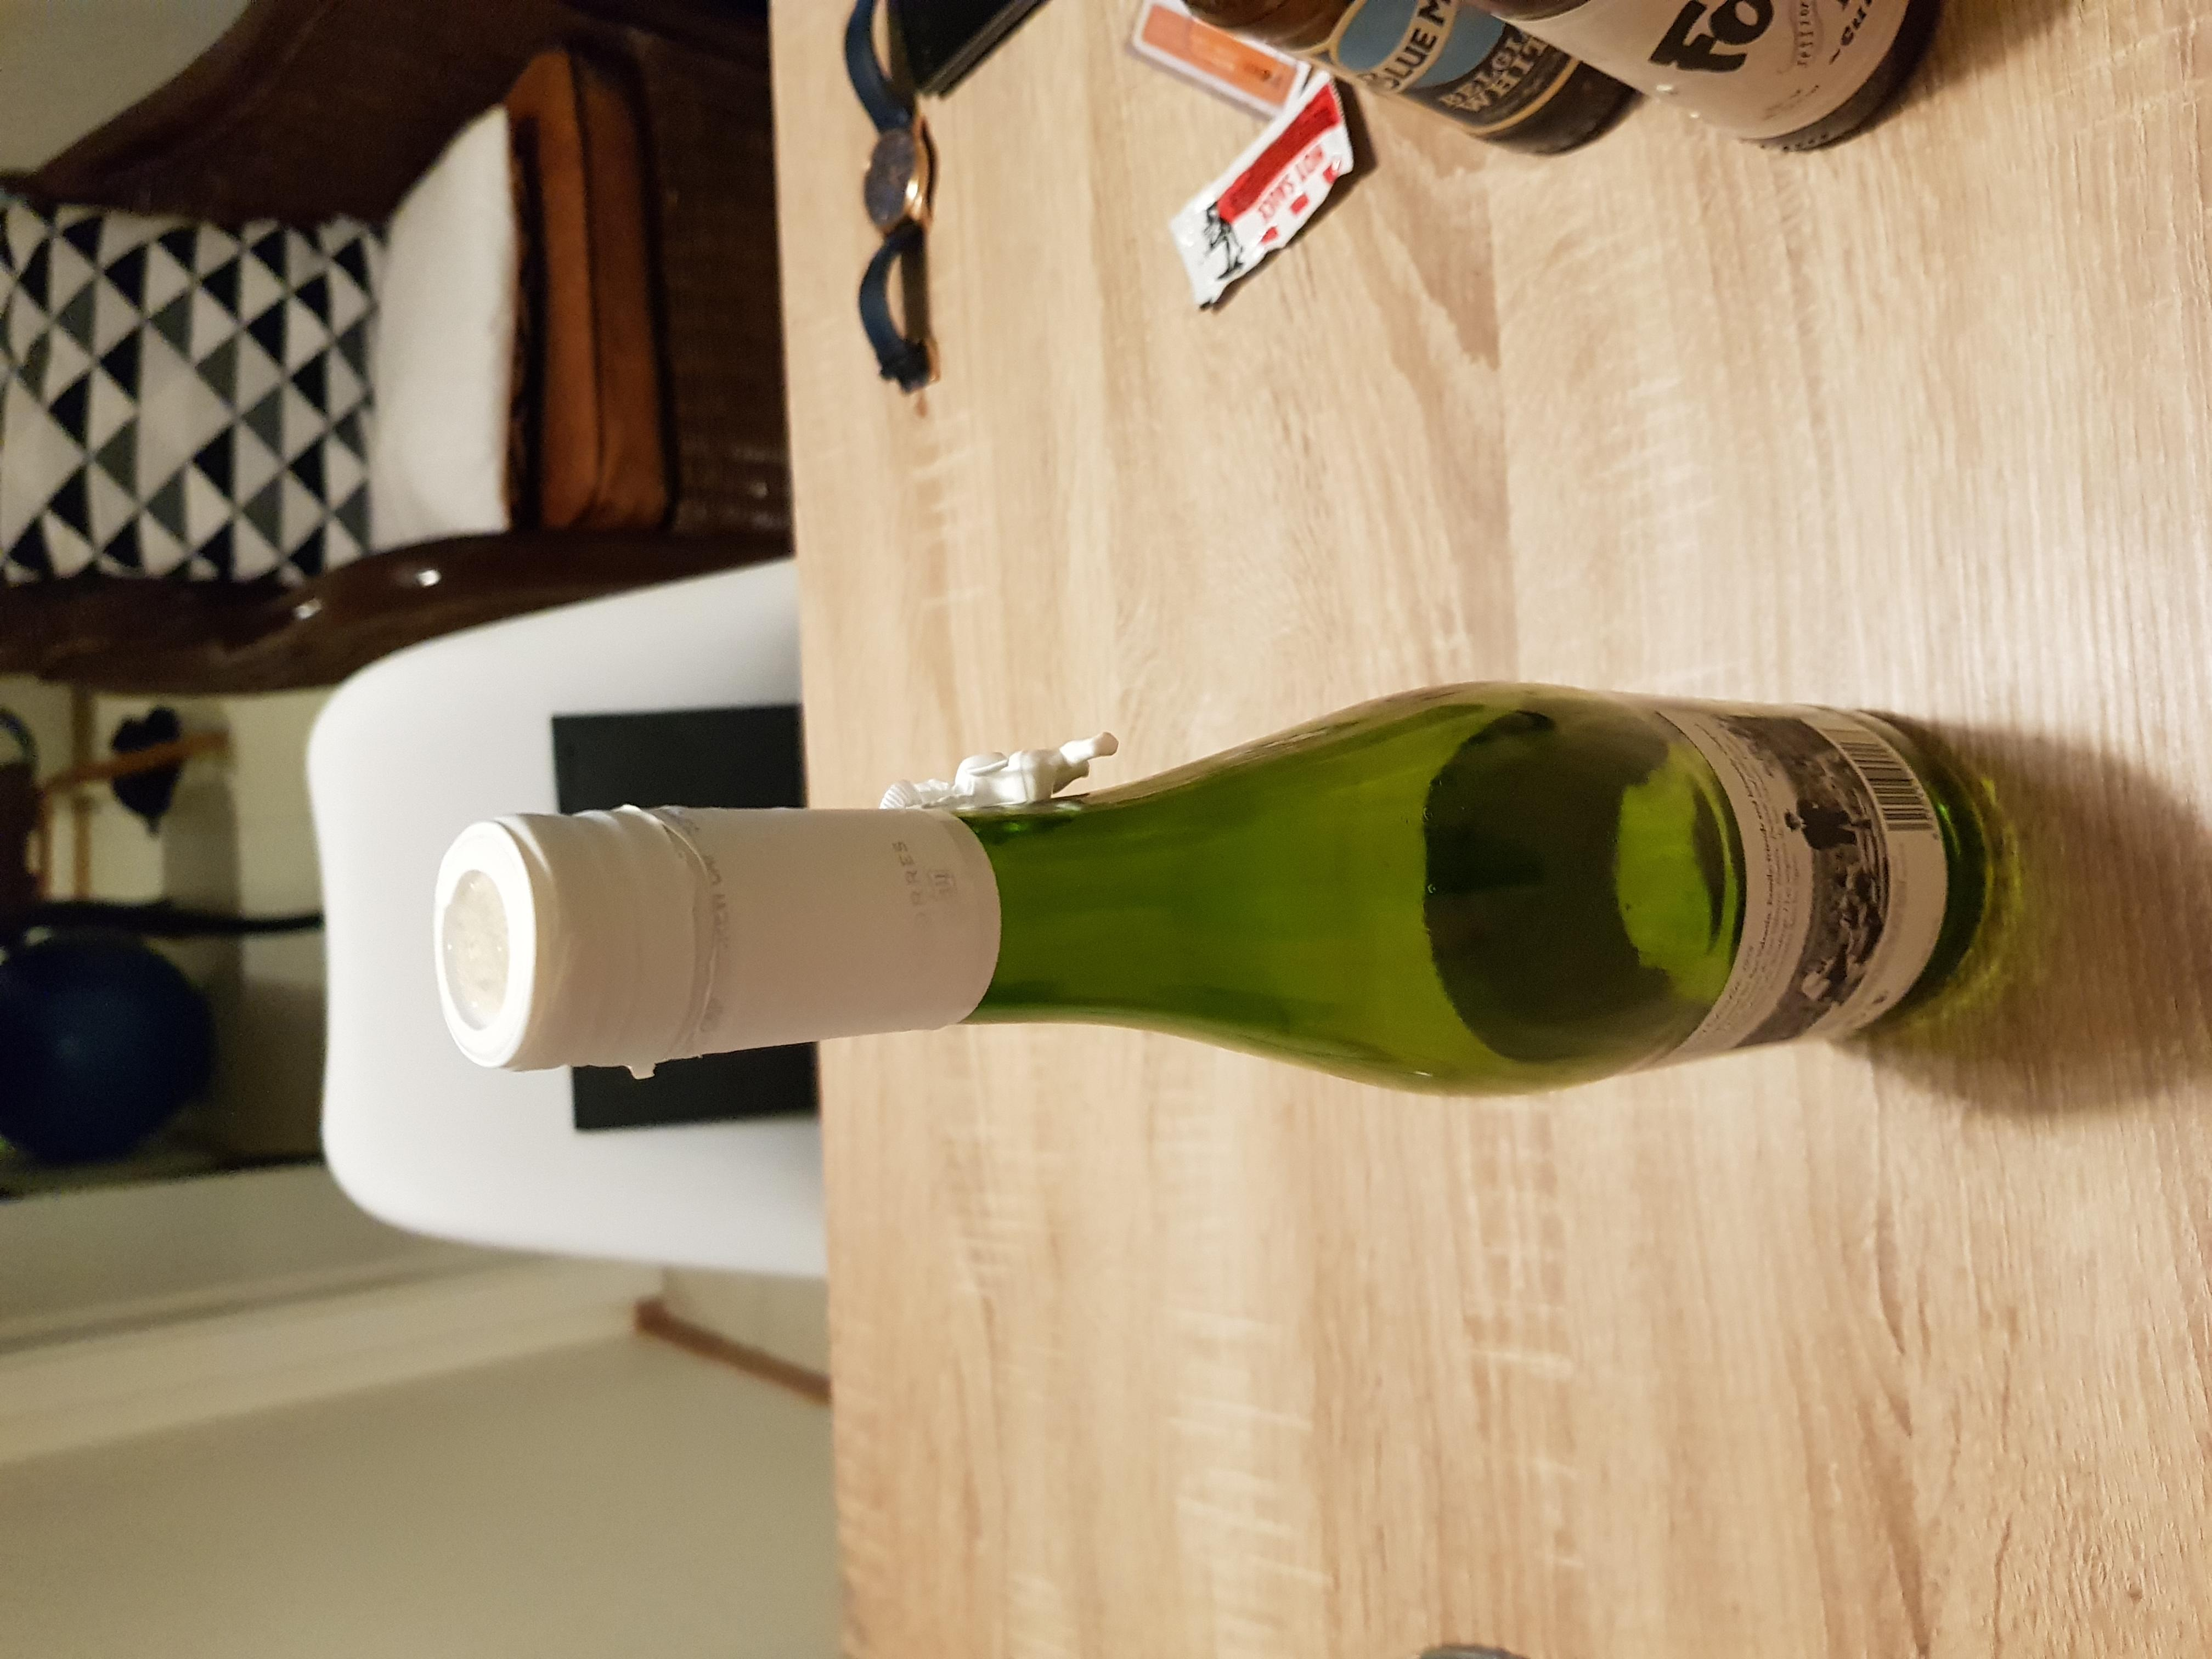Bottle: (423, 692, 2024, 1096)
